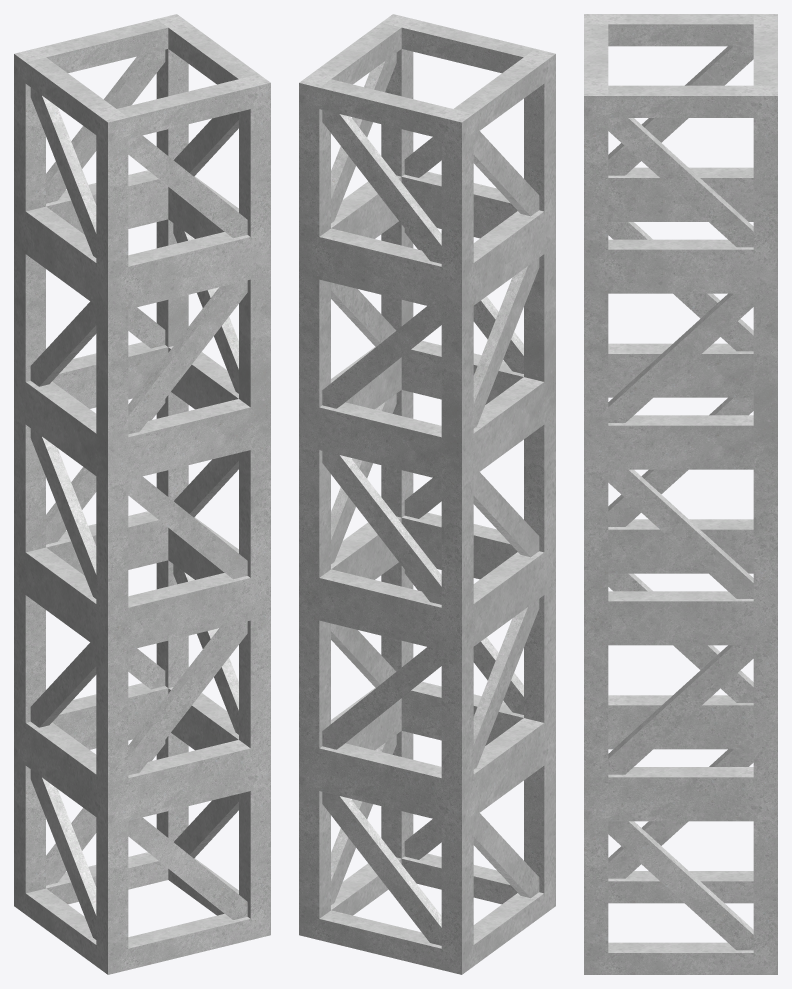
Rendered from truss.obj.
3 views of the same model, side by side, from view 1: azimuth 30°, elevation 25°; view 2: azimuth 150°, elevation 25°; view 3: azimuth 270°, elevation 25° (orthographic). The views are drawn at different scales.
Visible parts, largest first — view 1: Truss1; view 2: Truss1; view 3: Truss1.
Boxes of the visible parts, left/top/right/bottom form: Truss1: left=14, top=14, right=270, bottom=974; Truss1: left=299, top=14, right=555, bottom=974; Truss1: left=584, top=14, right=777, bottom=974.
Size of the model in its own units: 2 by 10 by 2.
1 material, 1 textured.
